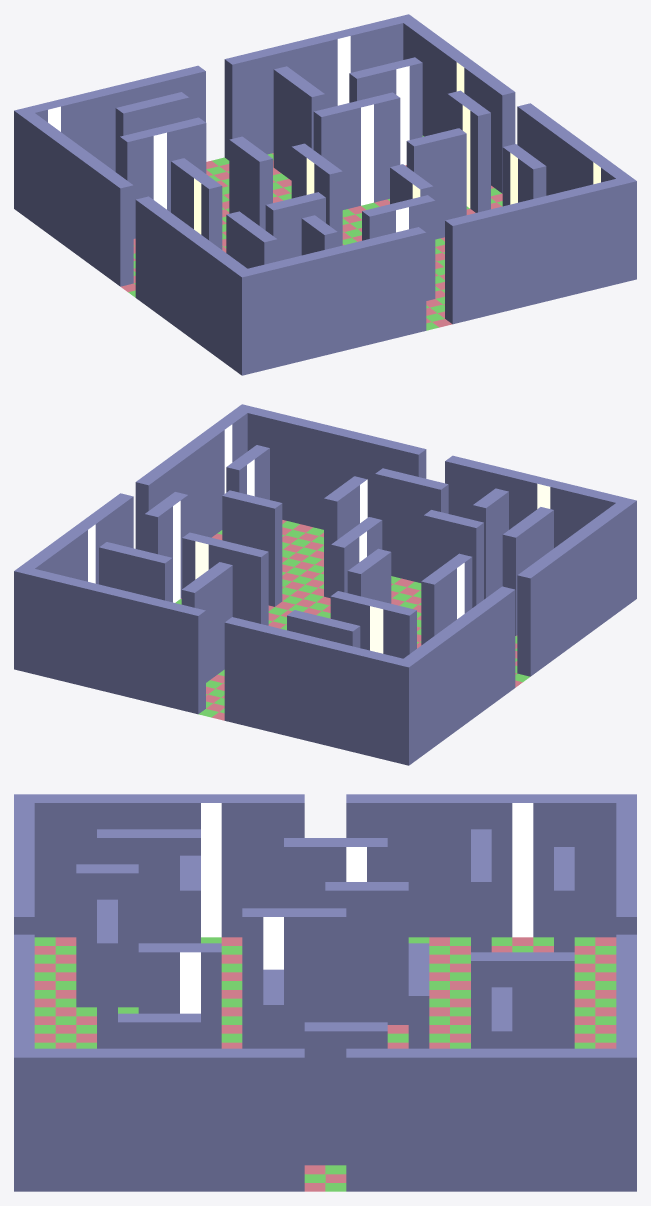
Rendered from level.glb.
3 renders of one model, top to bottom at view 1: azimuth 30°, elevation 25°; view 2: azimuth 150°, elevation 25°; view 3: azimuth 270°, elevation 25°, orthographic. The views are drawn at different scales.
Parts seen in each view (by area): view 1: Grid.002; view 2: Grid.002; view 3: Grid.002.
Boxes of the visible parts, x1,y1,x2,y2 form: Grid.002: (14, 14, 636, 375); Grid.002: (14, 404, 636, 765); Grid.002: (14, 794, 636, 1191).
Size of the model in its own units: 60 by 14.27 by 60.
